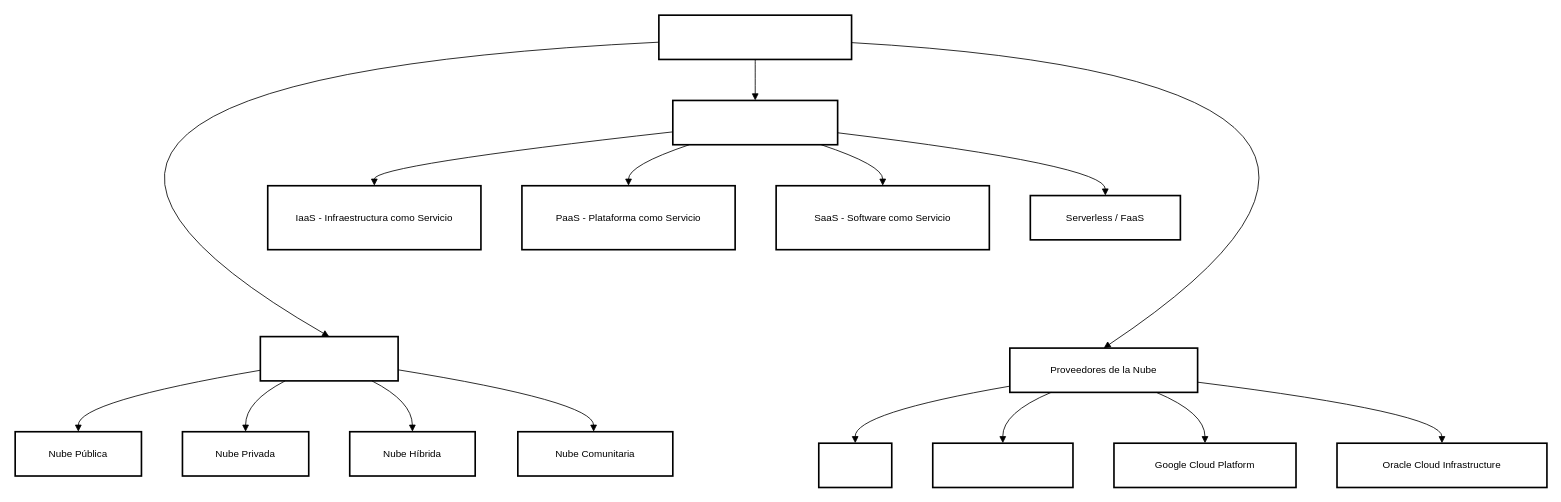
The diagram is 1561 pixels wide and 502 high, and some of its shapes have lost their labels. The centre of each missing label's shape, as x and y in pixels:
AWS: (855,465)
Computación en la Nube: (755,37)
Microsoft Azure: (1002,465)
Modelos de Servicio: (755,122)
Tipos de Nubes: (329,358)
